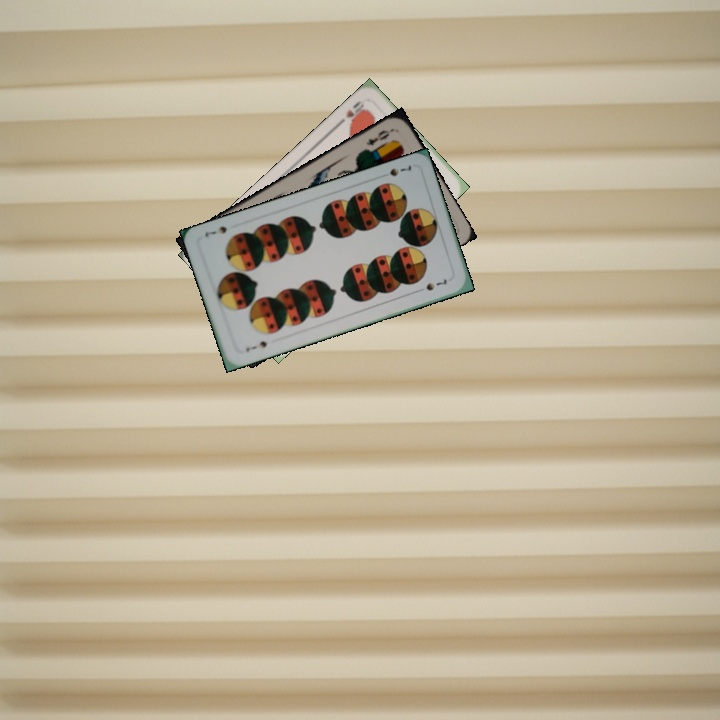EO: (362, 125, 395, 149)
HO: (334, 97, 369, 128)
S7: (386, 160, 414, 179), (242, 337, 269, 354)
